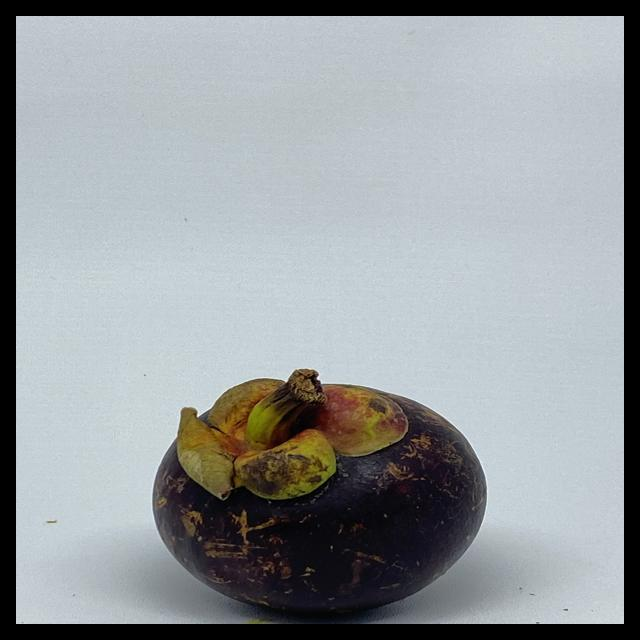mangosteen: (139, 339, 499, 624)
